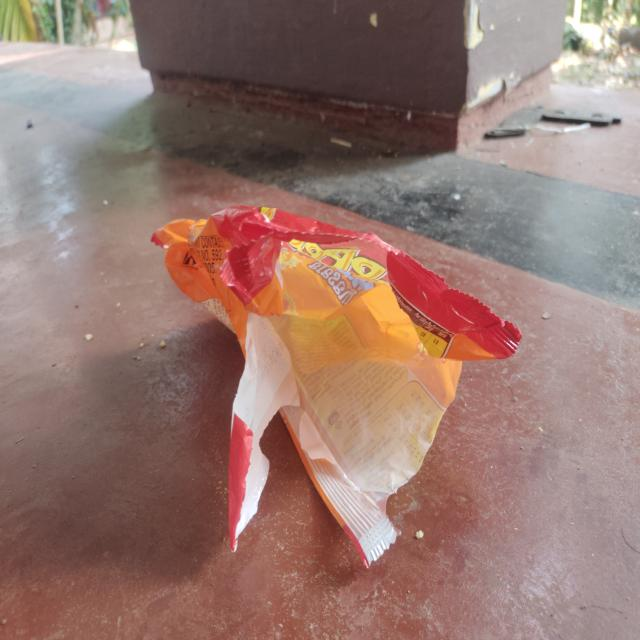plastic: (148, 200, 526, 562)
